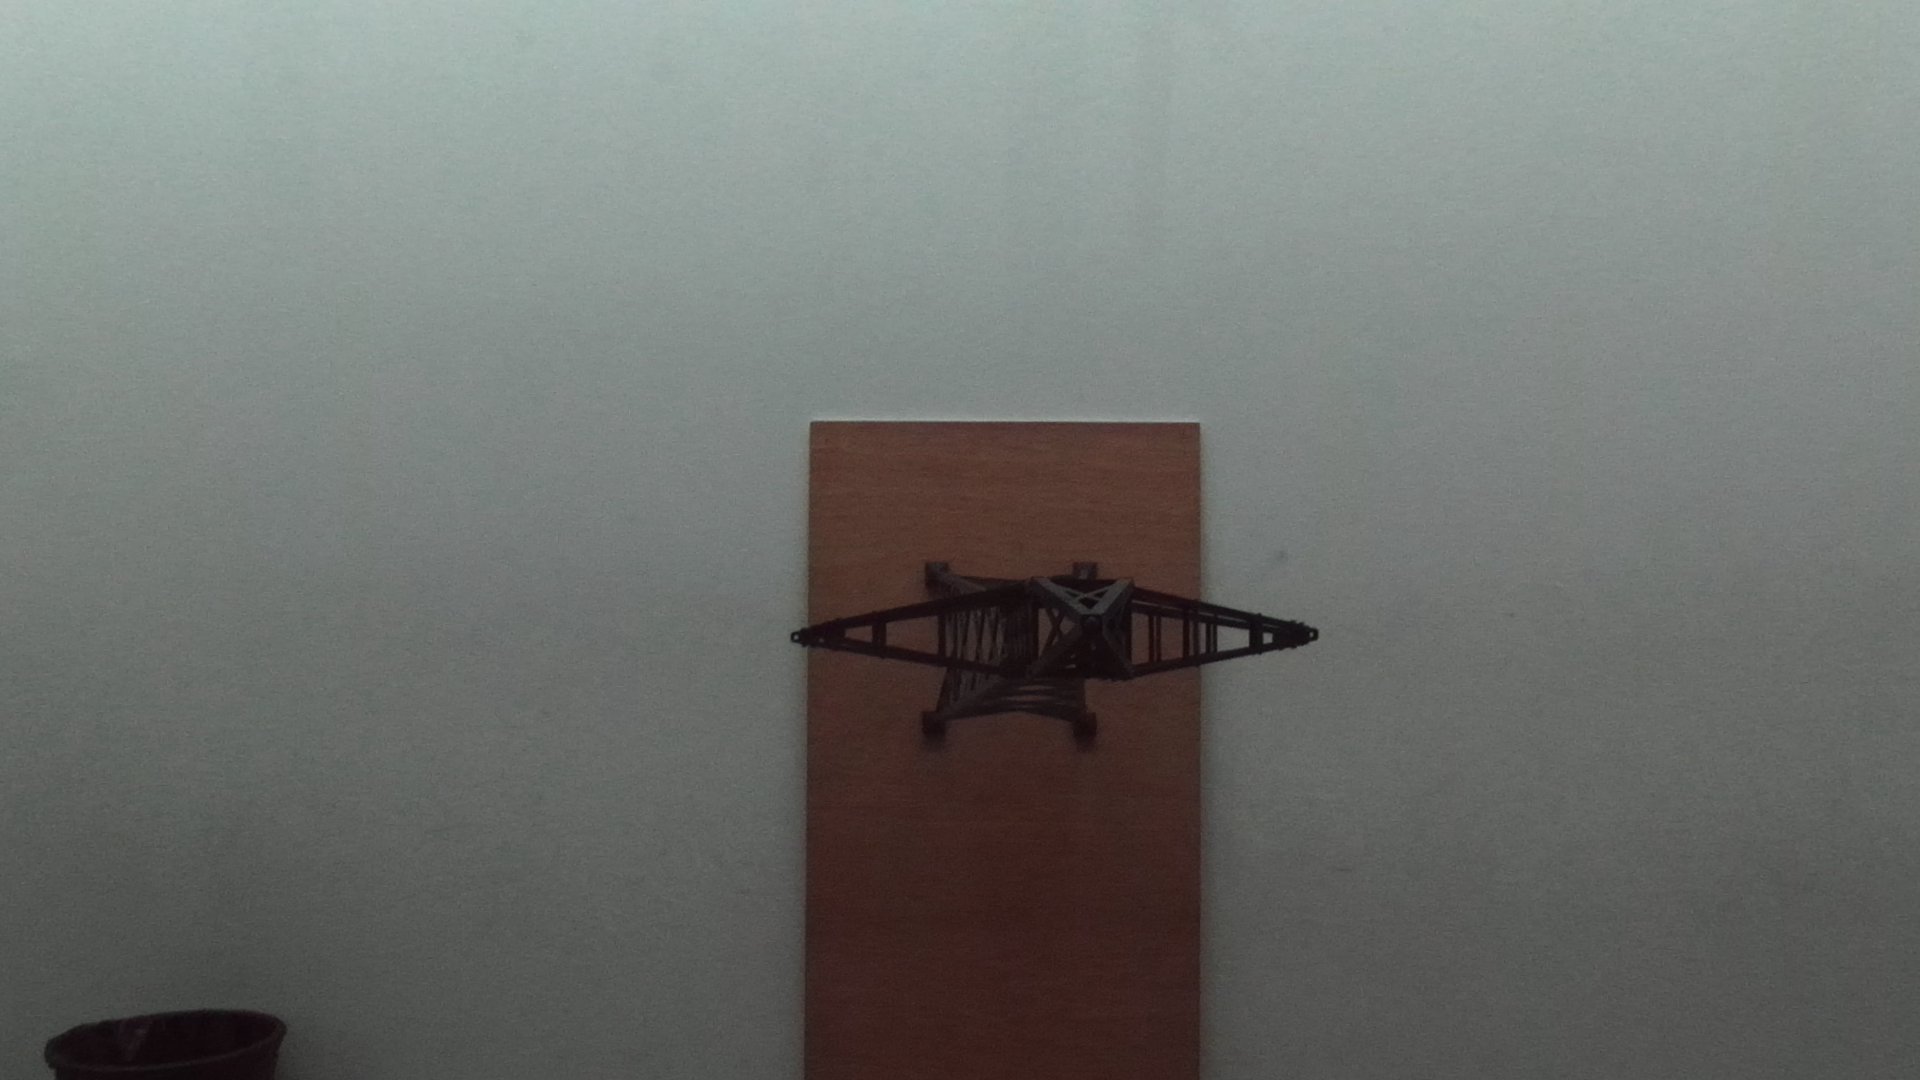pylon_phy: (803, 578, 1321, 682)
